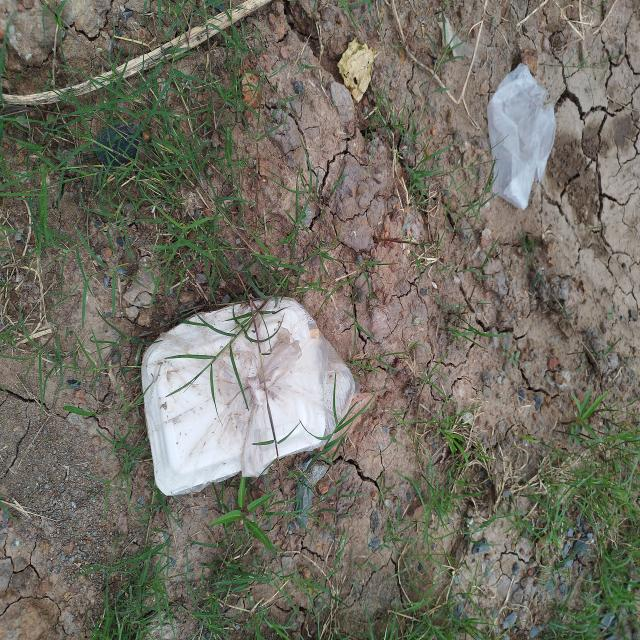bag: (486, 62, 557, 212)
foam box: (143, 296, 326, 499)
